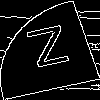Z: (25, 24, 76, 77)
